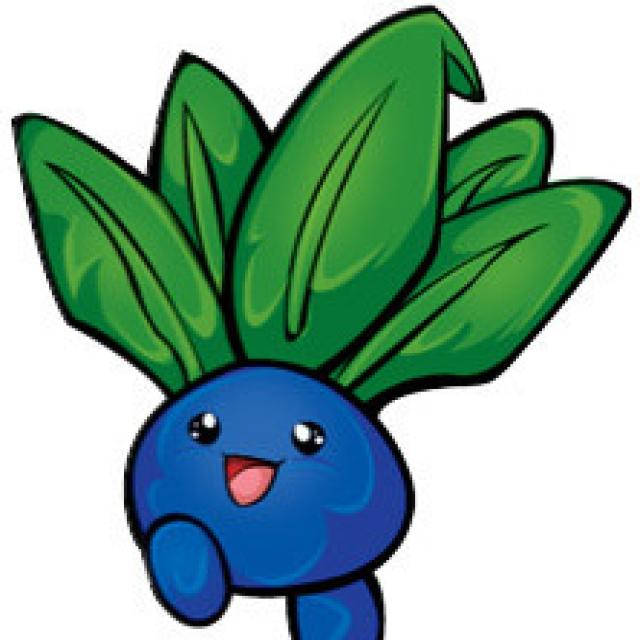Oddish: (124, 130, 429, 640)
